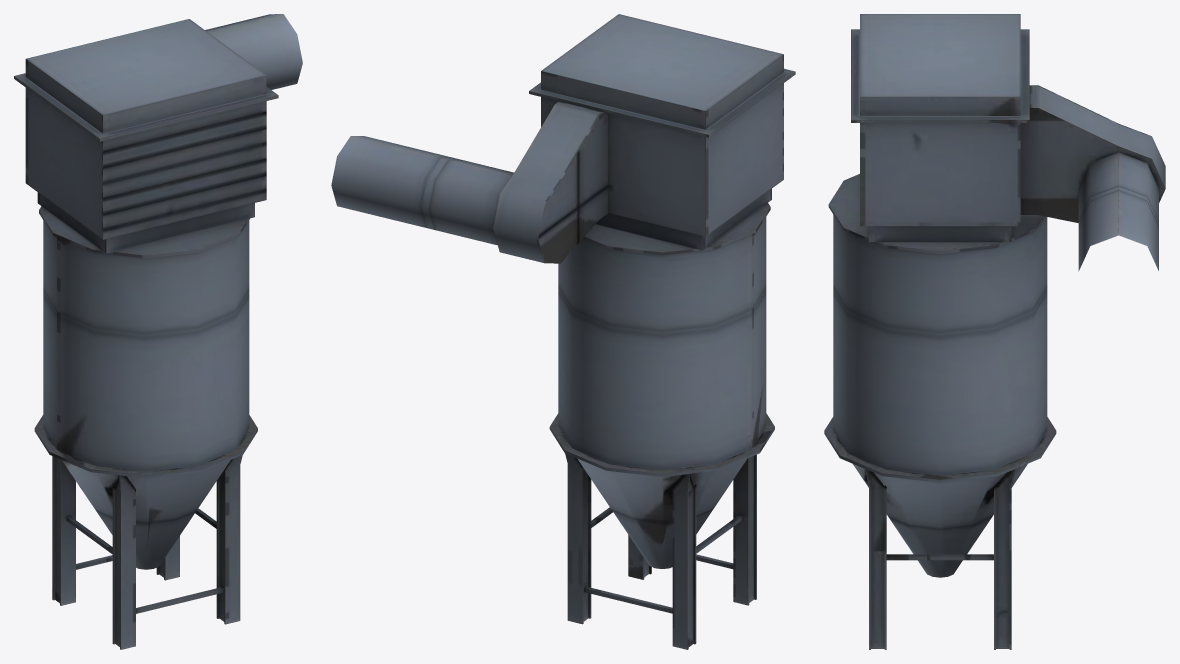
The picture shows the model from 3 angles, left to right: view 1: azimuth 30°, elevation 25°; view 2: azimuth 150°, elevation 25°; view 3: azimuth 270°, elevation 25°; orthographic projection. The views are drawn at different scales.
Visible parts, largest first — view 1: body0_model0_lod0_mesh0; view 2: body0_model0_lod0_mesh0; view 3: body0_model0_lod0_mesh0.
Boxes of the visible parts, x1,y1,x2,y2 form: body0_model0_lod0_mesh0: (14, 14, 302, 649); body0_model0_lod0_mesh0: (331, 14, 795, 649); body0_model0_lod0_mesh0: (824, 14, 1165, 649).
Size of the model in its own units: 21.5 by 34.87 by 19.13.
1 material, 1 textured.
